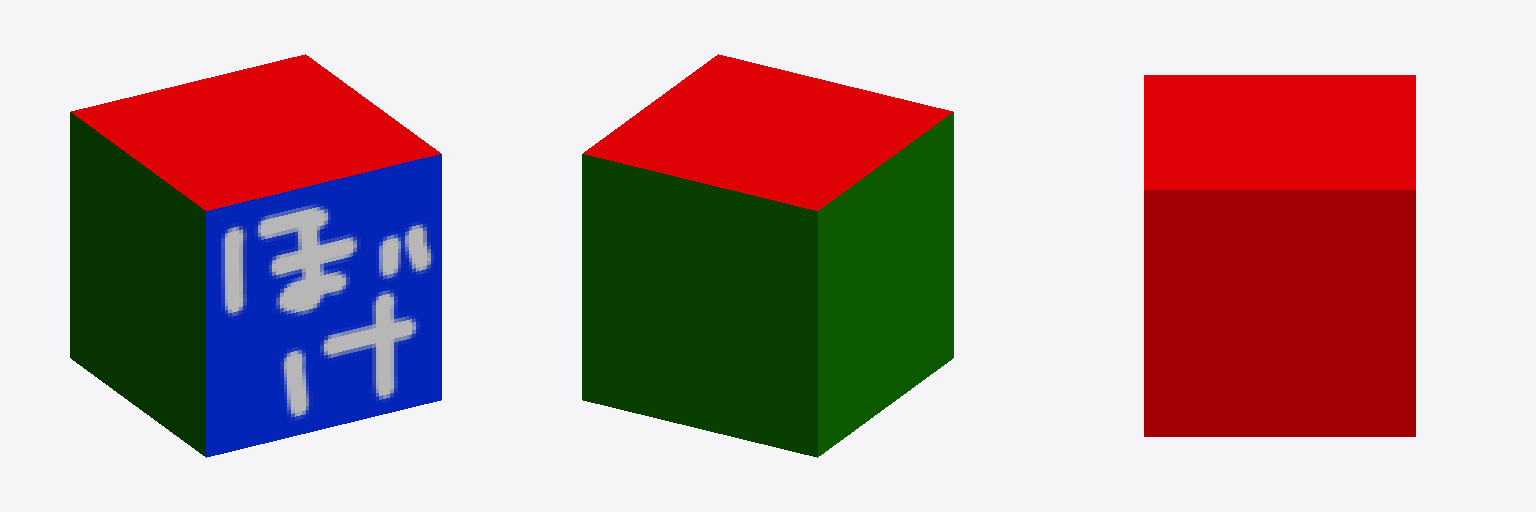
The picture shows the model from 3 angles: view 1: azimuth 30°, elevation 25°; view 2: azimuth 150°, elevation 25°; view 3: azimuth 270°, elevation 25°; orthographic projection.
Visible parts, largest first — view 1: Box; view 2: Box; view 3: Box.
Boxes of the visible parts, x1=… form: Box: x1=70, y1=54, x2=441, y2=457; Box: x1=582, y1=54, x2=953, y2=457; Box: x1=1144, y1=75, x2=1415, y2=436.
Bounding box in the file's own units: 1 × 1 × 1.
4 materials, 1 textured.